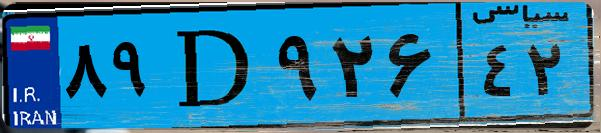2: (330, 28, 385, 110), (525, 38, 570, 115)
4: (475, 38, 525, 113)
6: (385, 28, 445, 110)
8: (57, 26, 110, 100)
9: (270, 28, 330, 110), (110, 28, 158, 98)
D: (158, 12, 270, 120)
